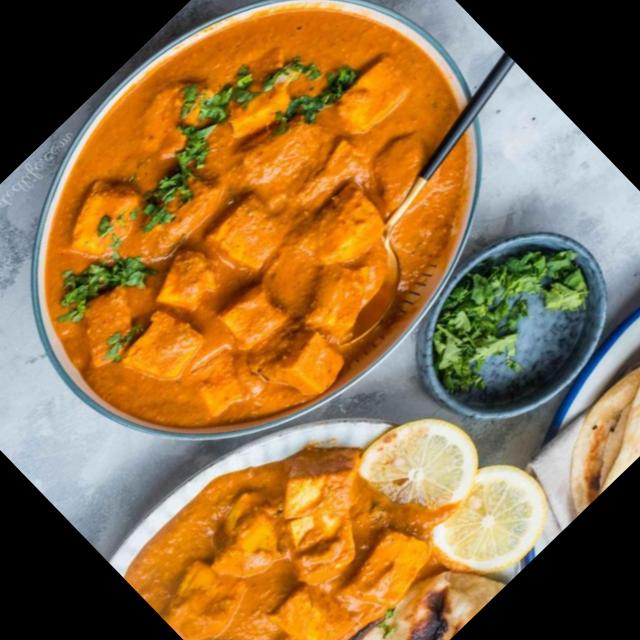roti: (299, 574, 474, 640)
